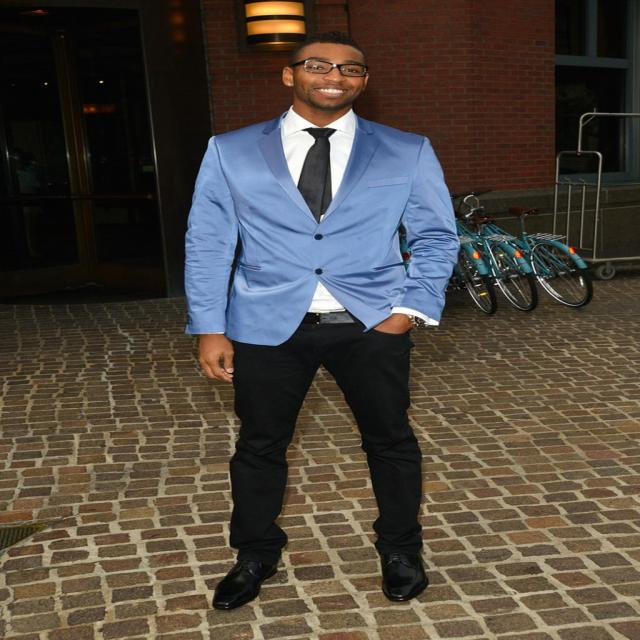nomask: (294, 45, 365, 106)
